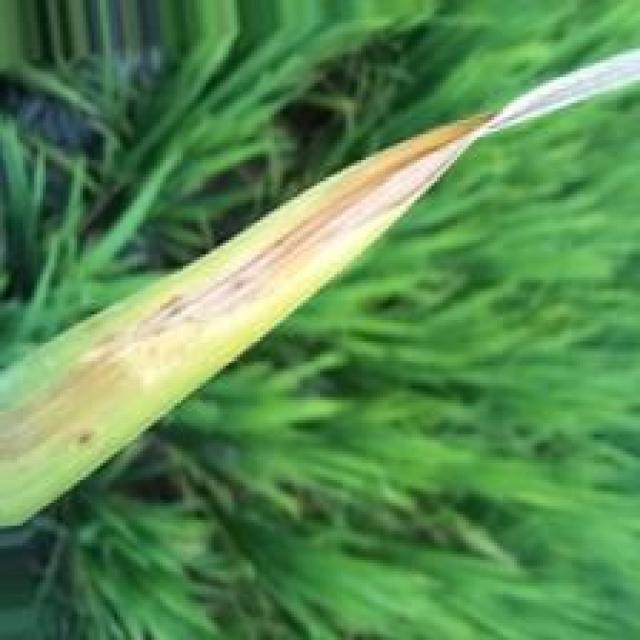Leaf_Scald: (127, 114, 501, 347)
